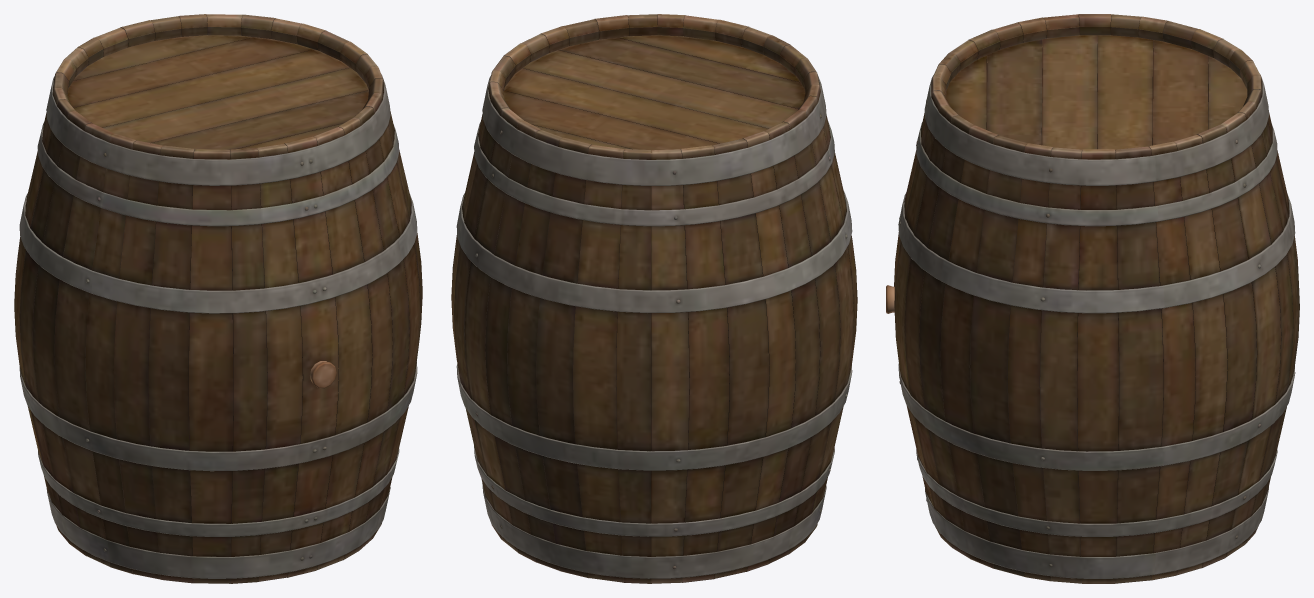
The model's file is wine_barrel_01.glb.
The picture shows the model from 3 angles, left to right: view 1: azimuth 30°, elevation 25°; view 2: azimuth 150°, elevation 25°; view 3: azimuth 270°, elevation 25°; orthographic projection.
Parts seen in each view (by area): view 1: wine_barrel_01_Lid; view 2: wine_barrel_01_Lid; view 3: wine_barrel_01_Lid.
Part boxes in pixels (x1=…): wine_barrel_01_Lid: x1=14, y1=14, x2=422, y2=583; wine_barrel_01_Lid: x1=451, y1=14, x2=857, y2=583; wine_barrel_01_Lid: x1=886, y1=14, x2=1299, y2=583.
Bounding box in the file's own units: 0.7419 × 0.8713 × 0.7561.
Materials: 1 (1 with a texture image).
